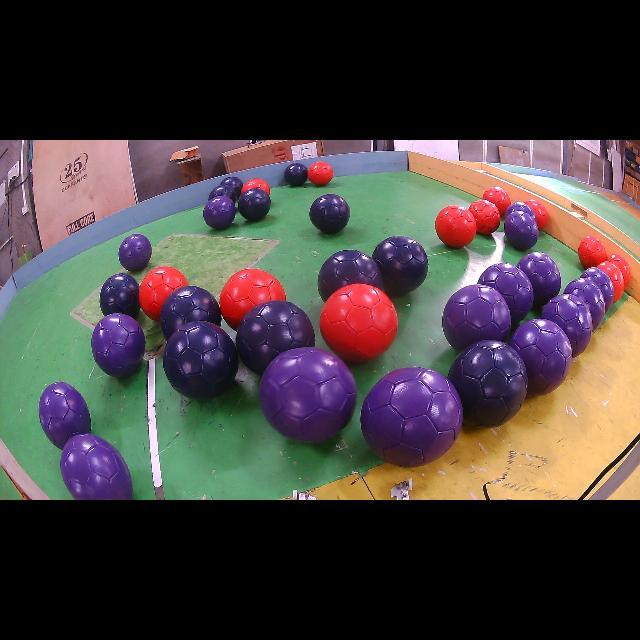B: (448, 340, 528, 426), (162, 321, 239, 399), (236, 300, 315, 374), (159, 285, 221, 340), (372, 236, 428, 296), (318, 250, 382, 301), (99, 272, 140, 318), (310, 194, 350, 234), (238, 189, 271, 221), (284, 164, 308, 186), (209, 185, 236, 204), (220, 176, 244, 197)
P: (361, 368, 462, 468), (260, 348, 356, 442), (509, 319, 572, 396), (60, 434, 132, 500), (442, 284, 511, 352), (39, 381, 91, 449), (478, 262, 534, 324), (91, 314, 145, 378), (541, 294, 592, 357), (516, 251, 561, 306), (564, 278, 605, 331), (580, 268, 614, 312), (504, 211, 539, 250), (119, 234, 151, 271), (202, 196, 236, 229), (505, 201, 536, 221)
R: (320, 284, 398, 362), (220, 269, 286, 330), (139, 266, 189, 321), (435, 205, 476, 248), (469, 199, 501, 234), (598, 261, 624, 302), (578, 235, 606, 269), (482, 186, 511, 214), (608, 254, 631, 288), (525, 199, 549, 229), (308, 161, 334, 185), (241, 179, 270, 195)
